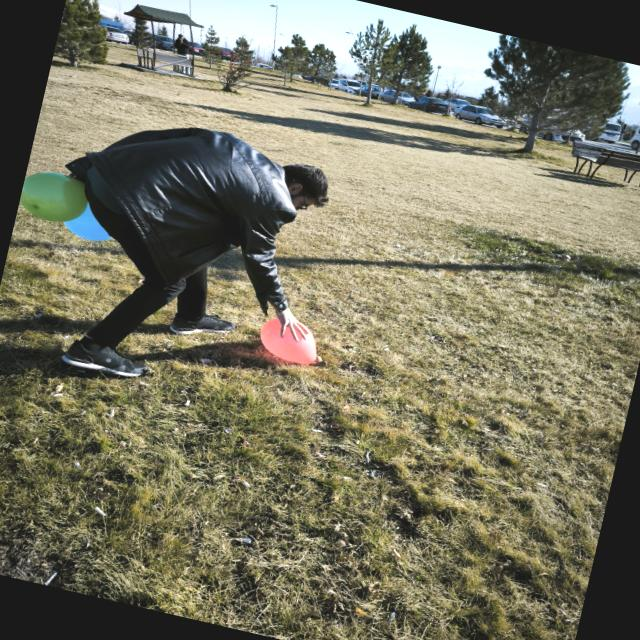balloon: (19, 172, 87, 221), (260, 317, 316, 364), (63, 203, 110, 241)
